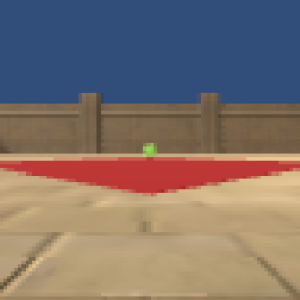deathZone: (1, 157, 300, 195)
goodGoal: (141, 142, 158, 157)
